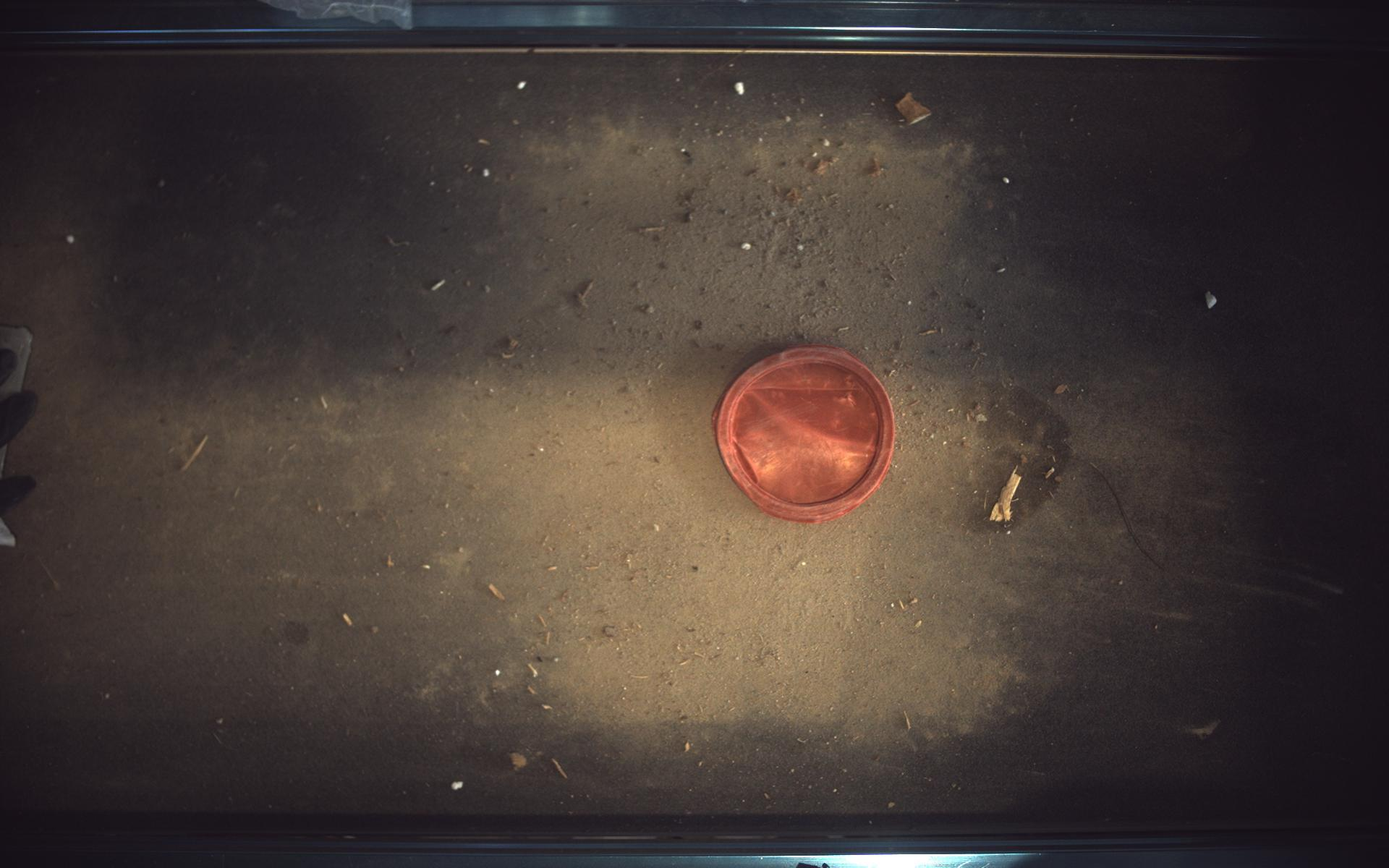plastic: (715, 344, 897, 523)
